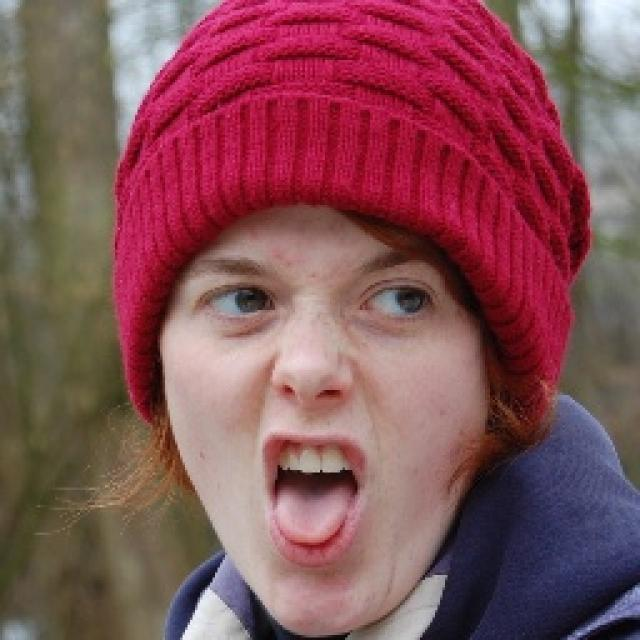eye: (201, 283, 277, 322), (366, 282, 438, 321)
nose: (273, 386, 355, 425)
